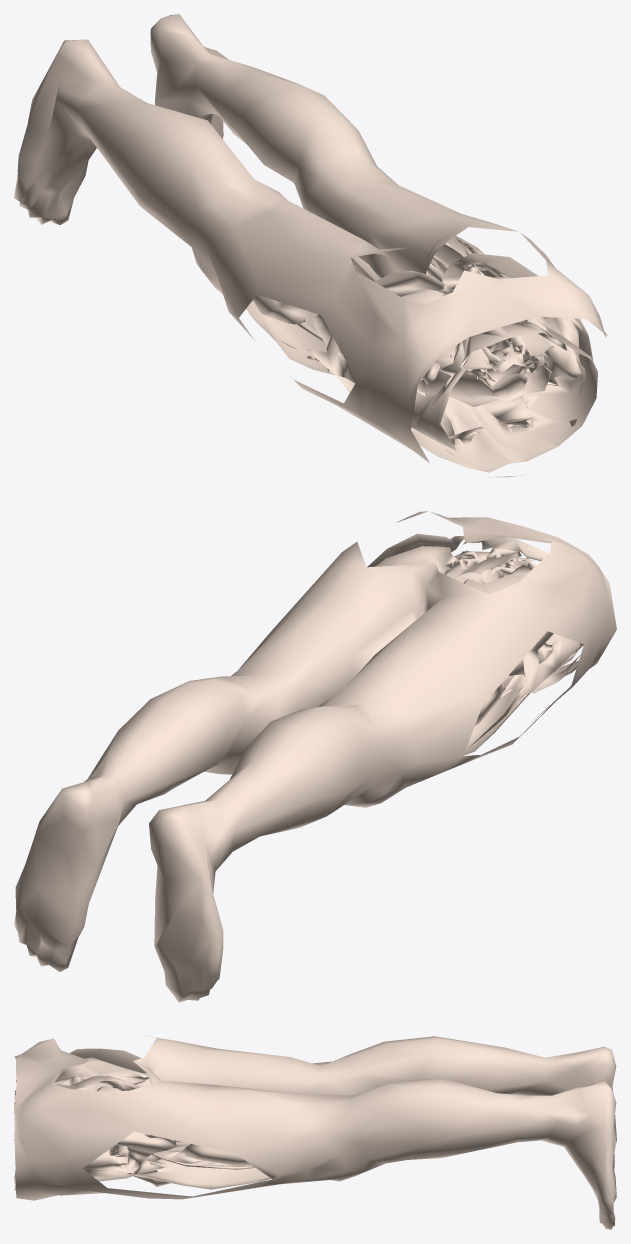
File: overview__skin.d530efd344.glb
3 views of the same model, one above another, from view 1: azimuth 30°, elevation 25°; view 2: azimuth 150°, elevation 25°; view 3: azimuth 270°, elevation 25° (orthographic). The views are drawn at different scales.
Visible parts, largest first — view 1: __skin__; view 2: __skin__; view 3: __skin__.
Part boxes in pixels (<box>): __skin__: <box>14,14,608,477</box>; __skin__: <box>14,511,616,1002</box>; __skin__: <box>14,1035,616,1229</box>.
Size of the model in its own units: 320 by 258 by 981.
